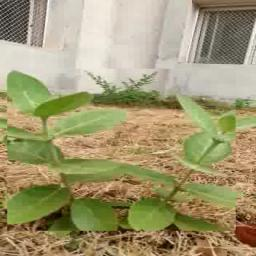CALOTROPIS: (8, 69, 237, 232)
